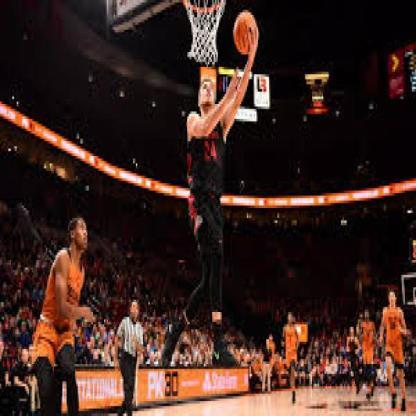basketball: (233, 13, 259, 55)
rim: (183, 0, 225, 15)
